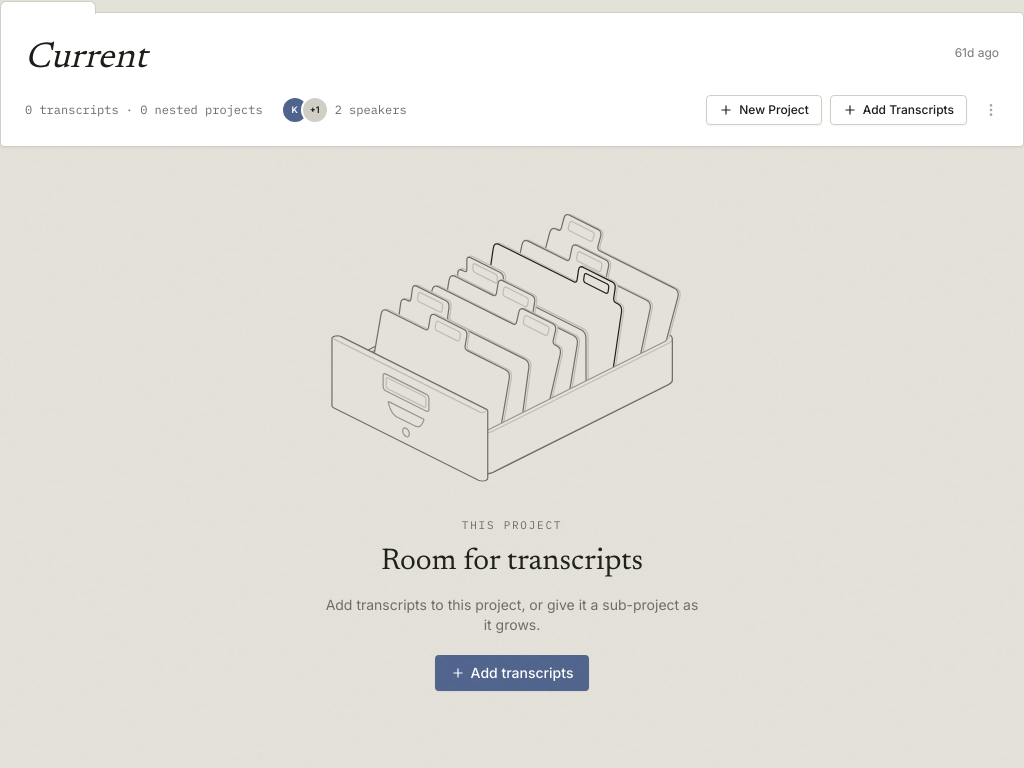
Test: ProjectPage › speakers › people dialog › the speaker faces open it
Click the button with aria-label "Speakers in Current: 2 speakers".
click(348, 110)  # box left=279, top=94, right=417, bottom=126
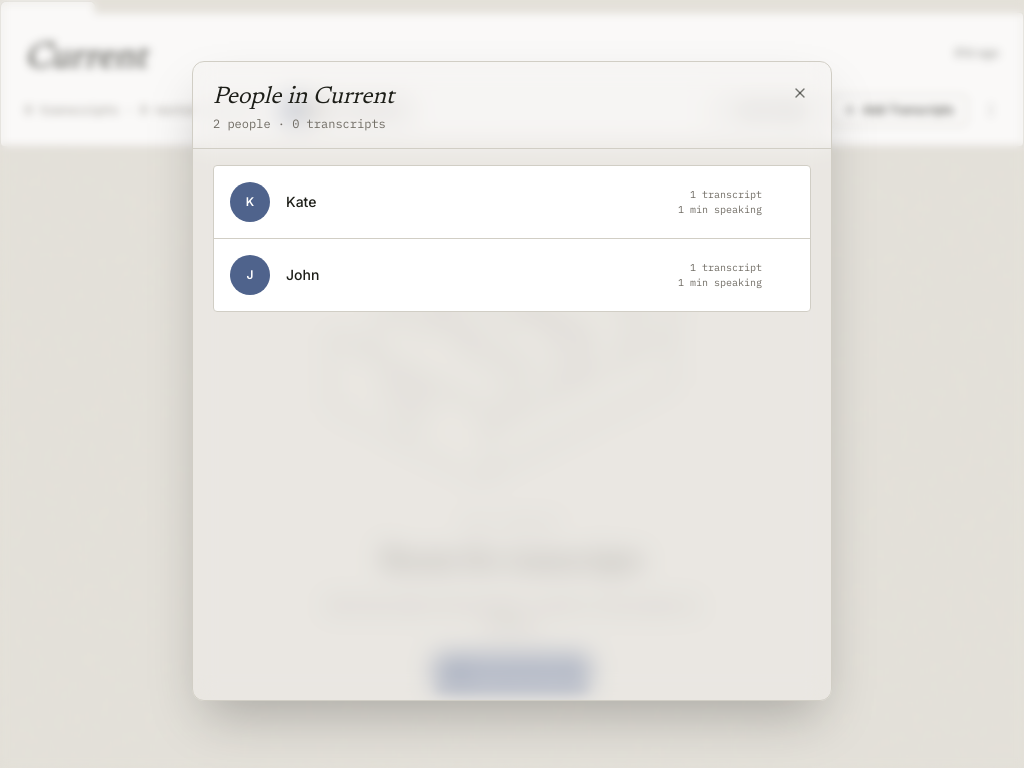
Expected: the dialog "People in Current" is shown, left=192, top=61, right=832, bottom=701
Expected: the button with test id "person-row-p1" is shown, left=214, top=239, right=810, bottom=311
Expected: the button with aria-label "Speakers in Current: 2 speakers" is expanded, left=279, top=94, right=417, bottom=126
